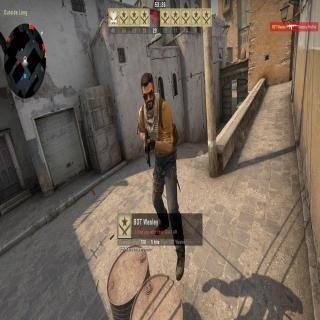T-Body: (139, 73, 185, 276)
T-Head: (140, 74, 156, 110)
